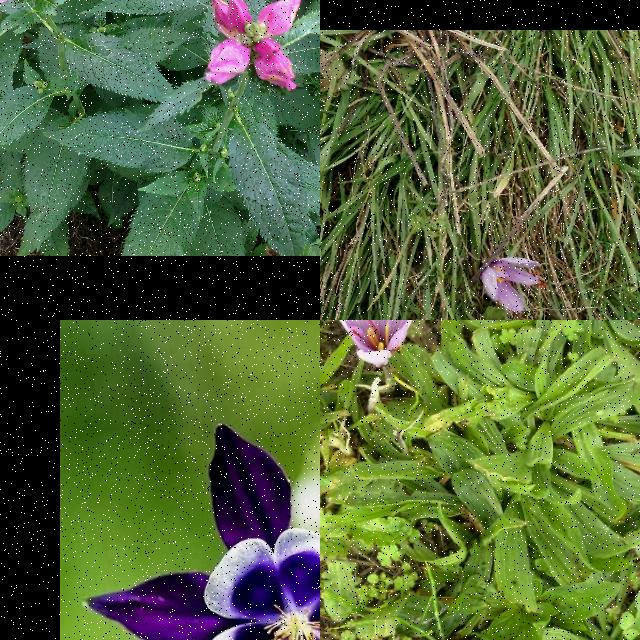flower: (332, 320, 417, 368), (480, 258, 548, 314)
